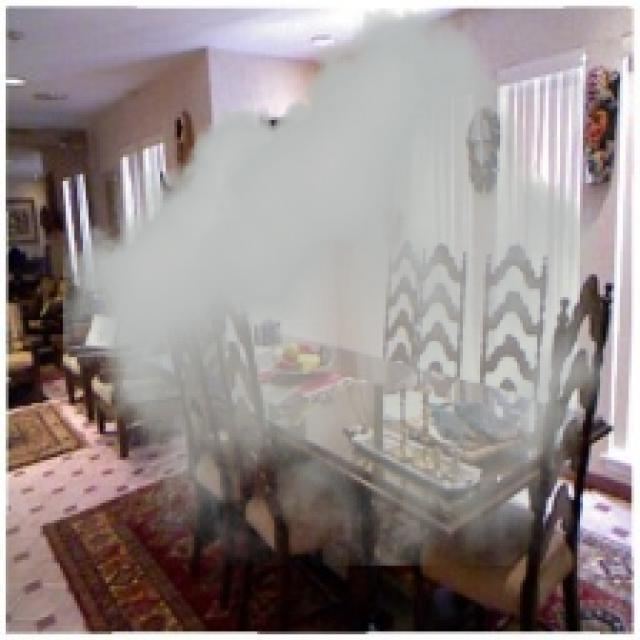Smoke: (62, 8, 608, 566)
